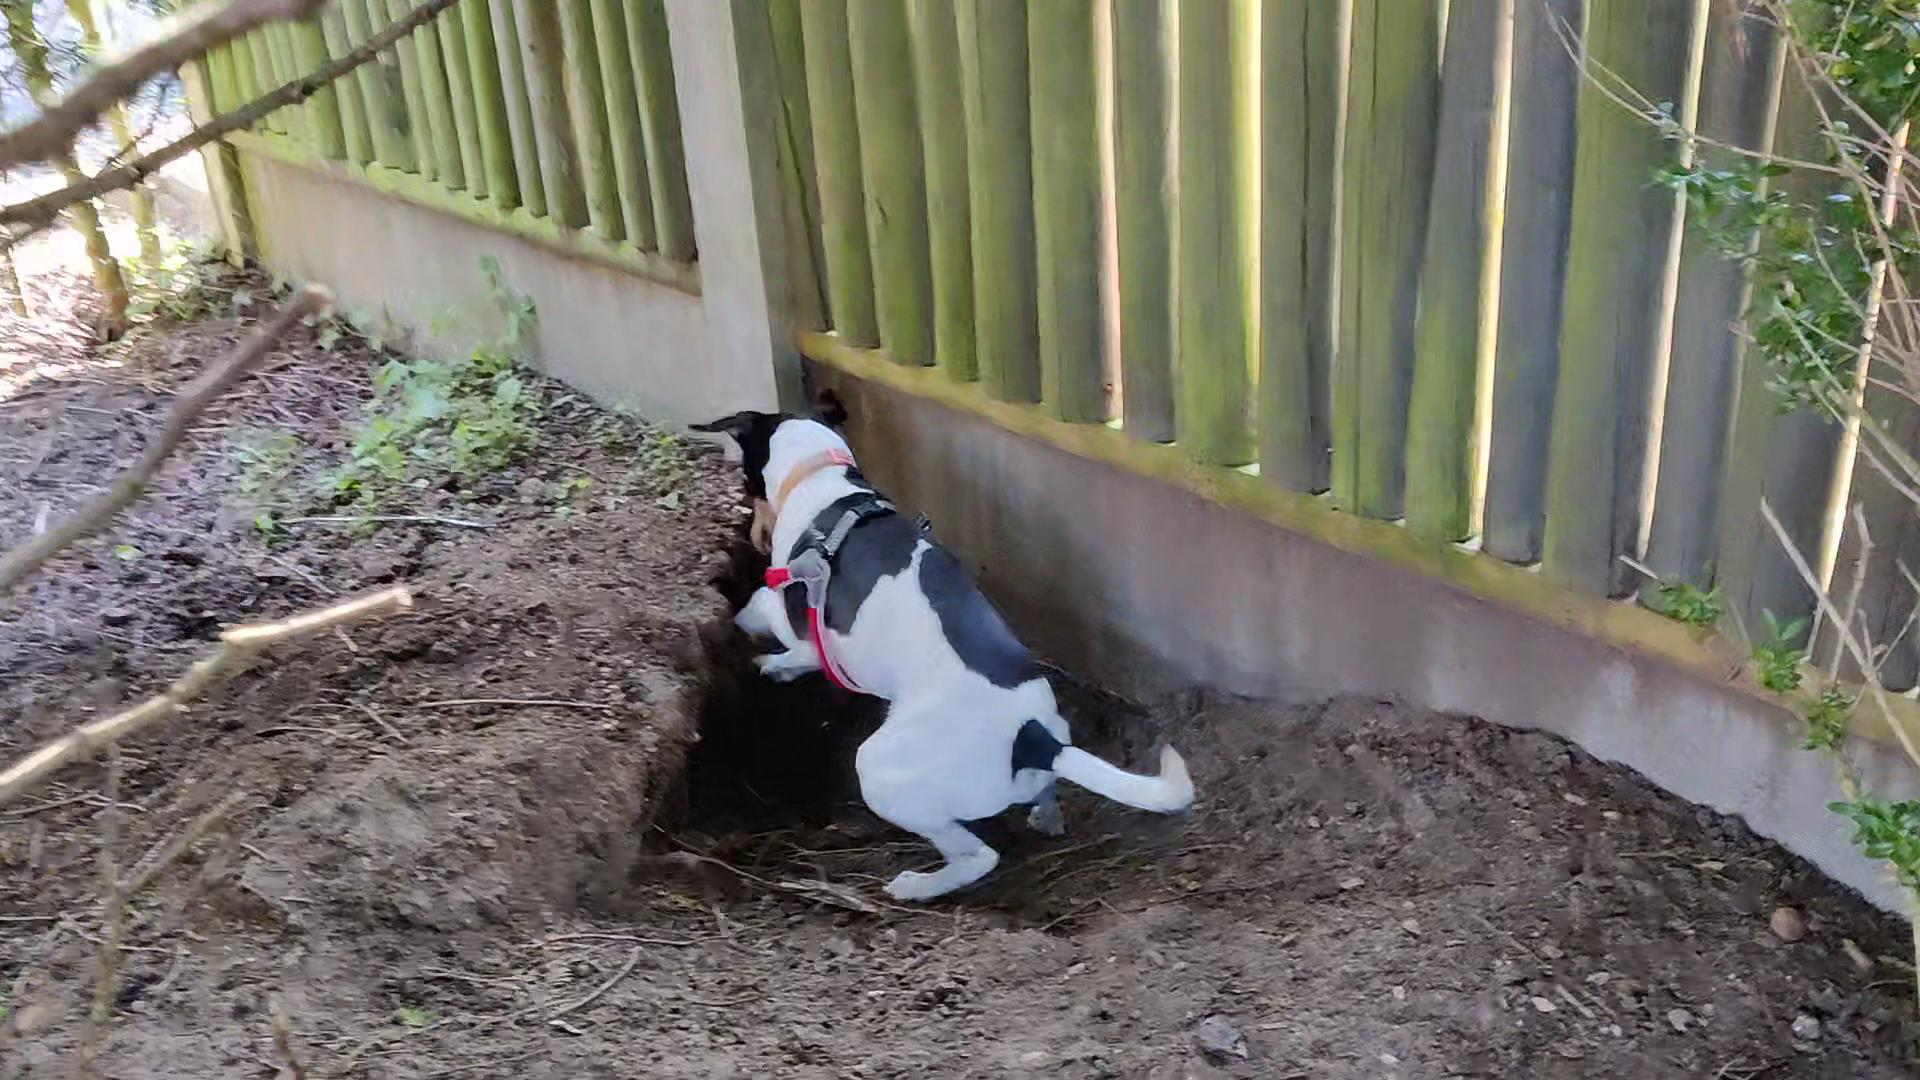Dog: (661, 361, 1211, 906)
